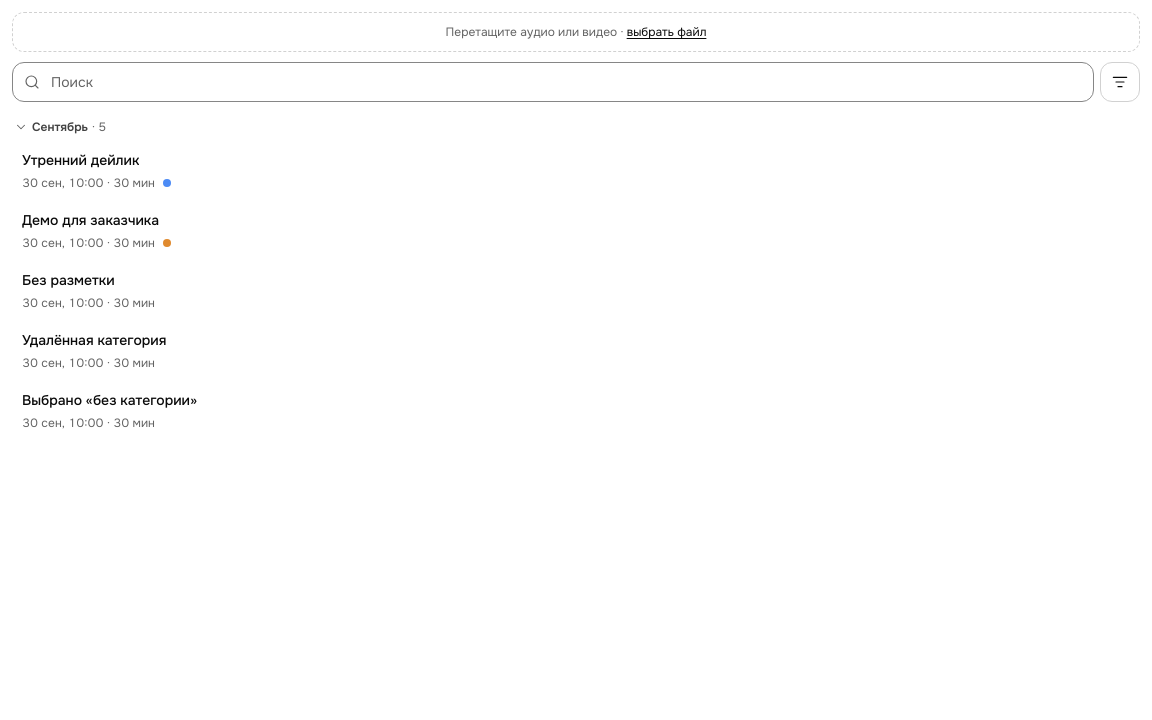
Scenario: резидент без /facets — числа категорий по-старому, из /categories
The image size is (1152, 720).
Click the button named "Фильтры". click: [1120, 82]
box: [1100,62,1140,102]
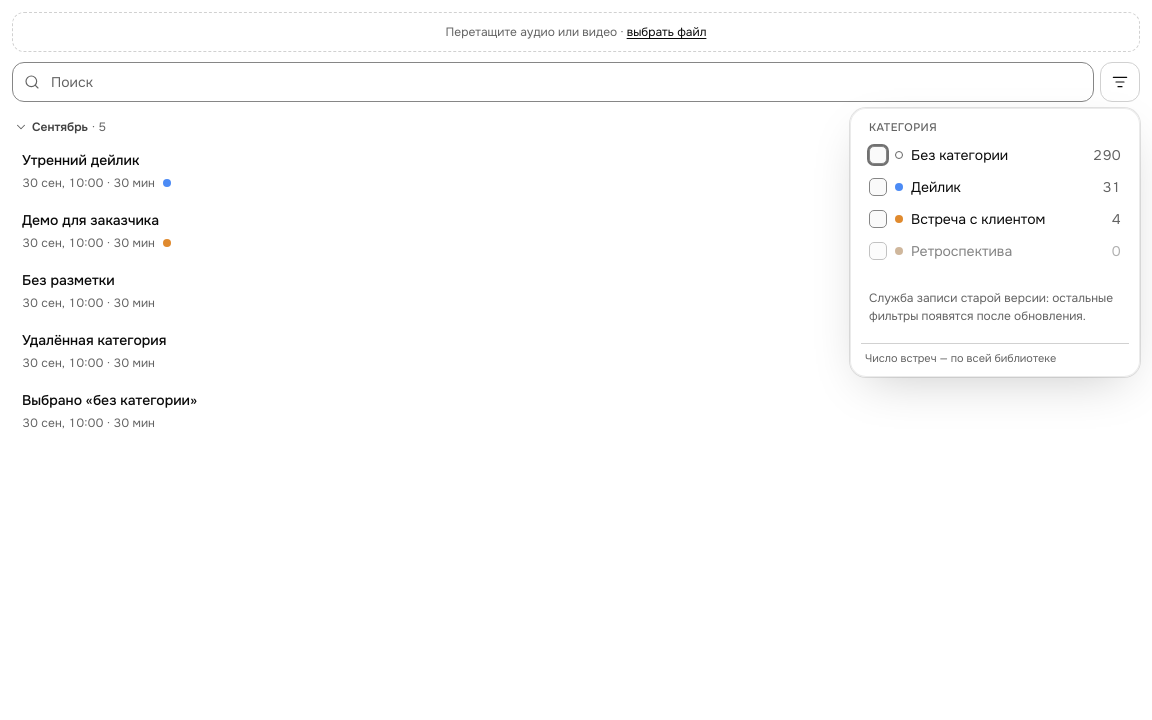
Expected: the label "Дейлик" reads "Дейлик 31", [869,178,1121,196]
